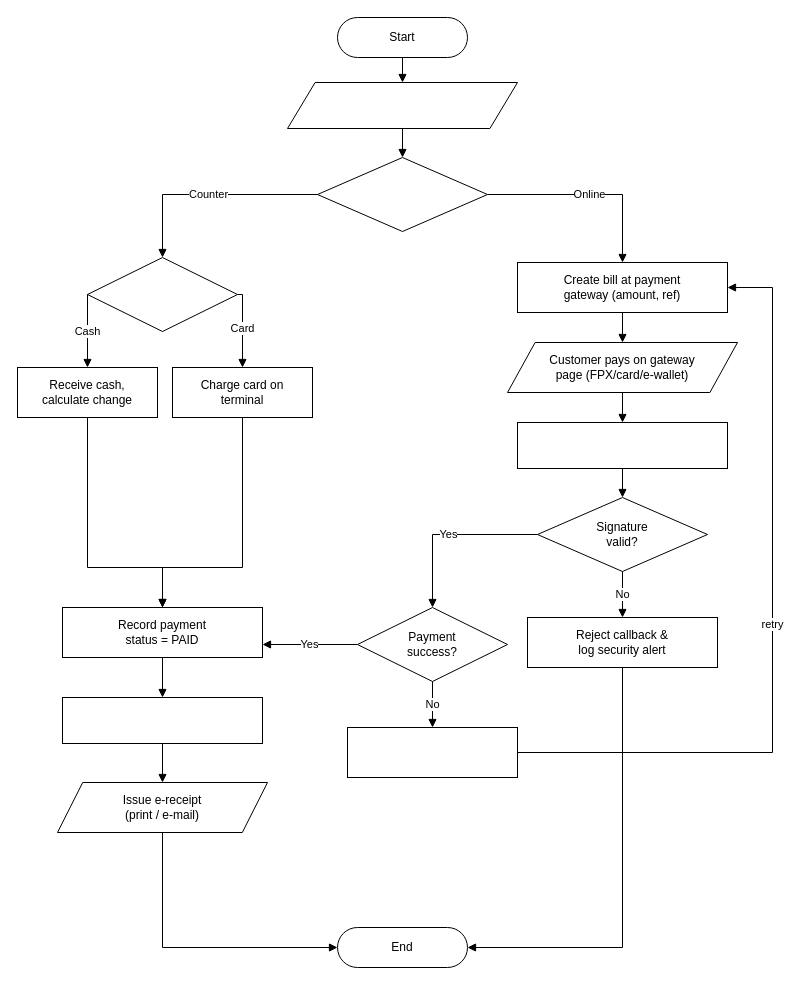
The diagram is 801 pixels wide and 985 high, and some of its shapes have lost their labels. The centre of each missing label's shape, as x and y in pixels:
Cash or card?: the point at 162,294
Mark FAILED, allow retry: the point at 432,752
Payment channel?: the point at 402,194
Receive gateway callback: the point at 622,445
Retrieve order no. & amount due: the point at 402,105
Update order paid flag: the point at 162,720
